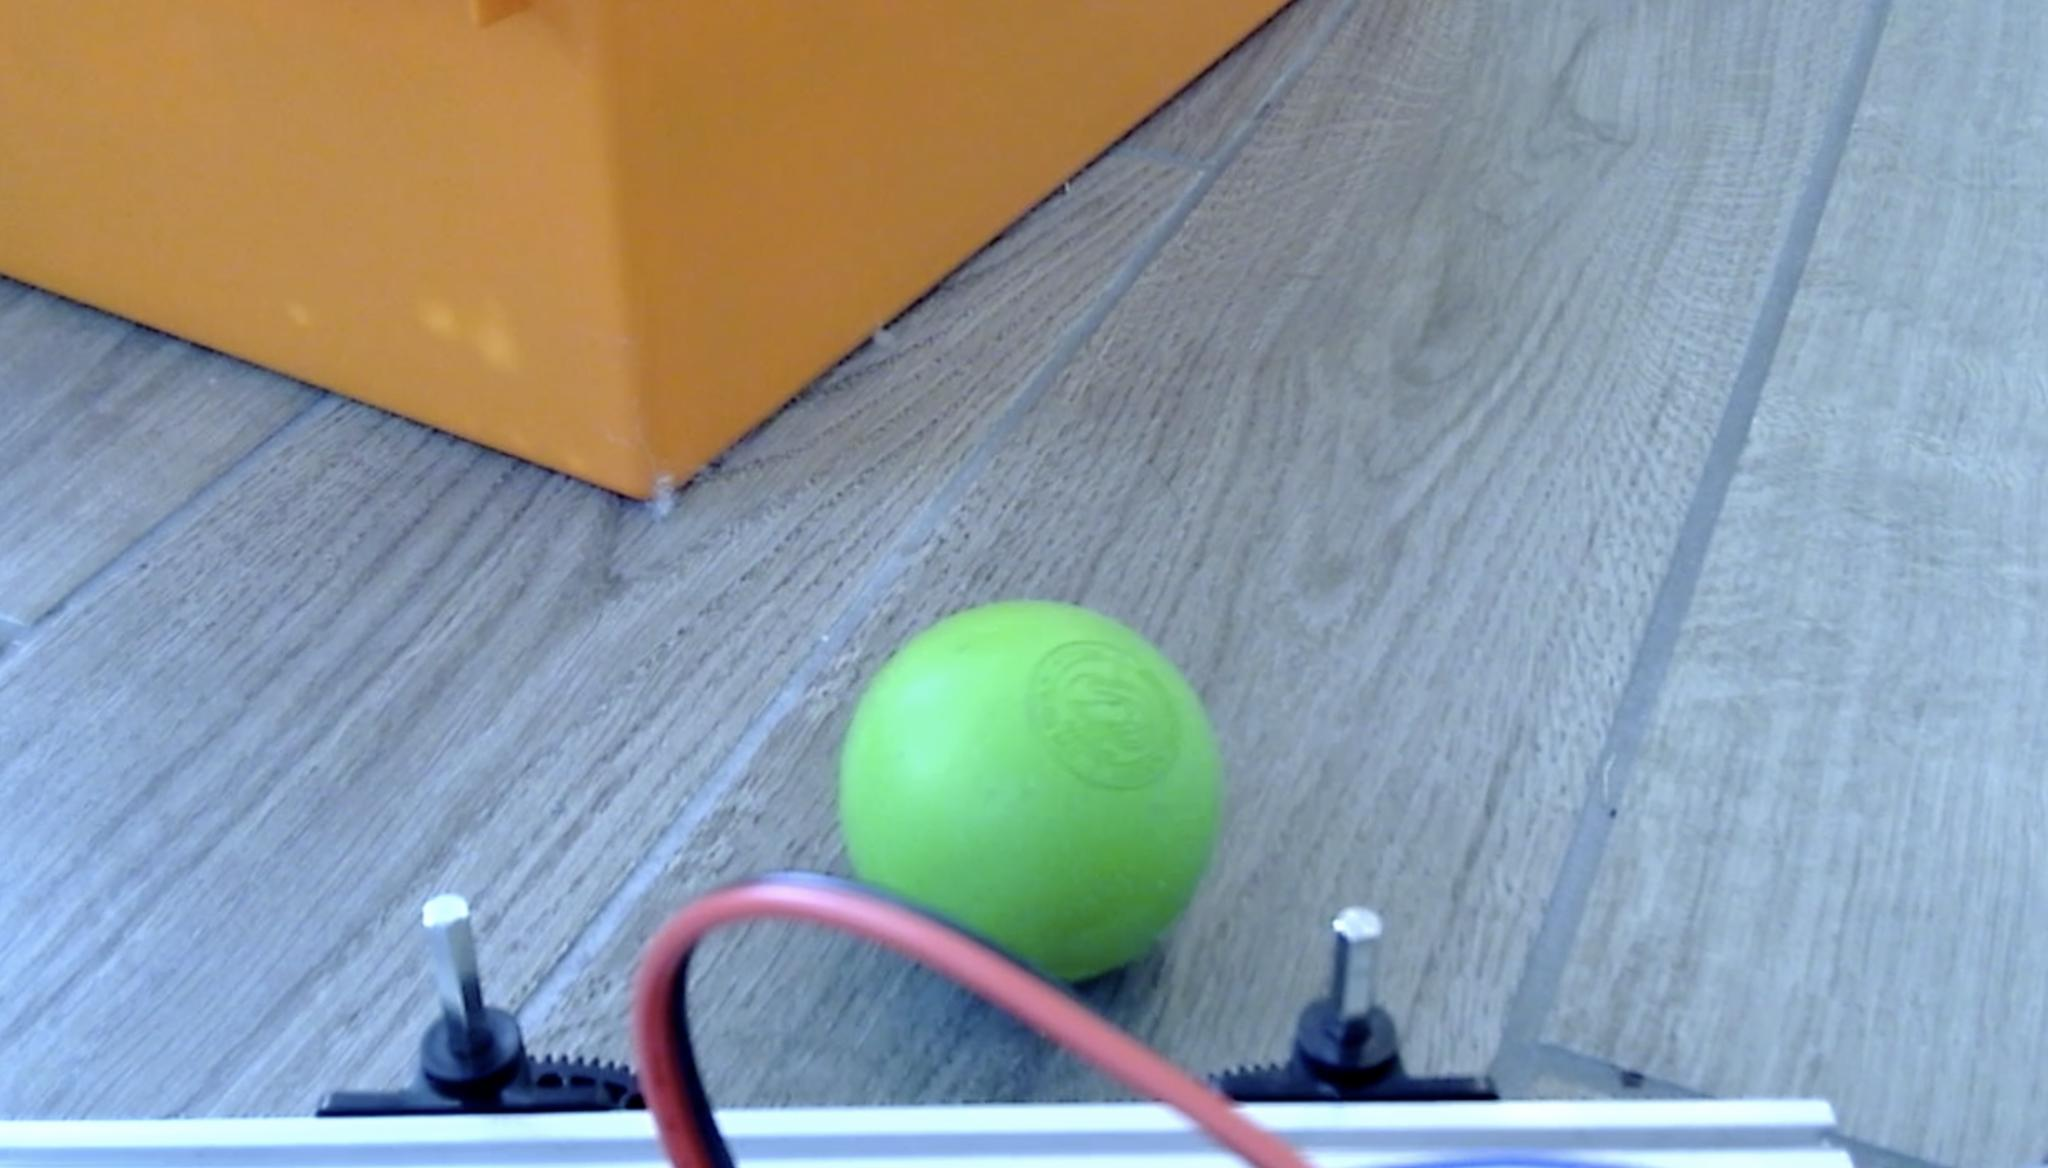greenball: (836, 595, 1225, 985)
